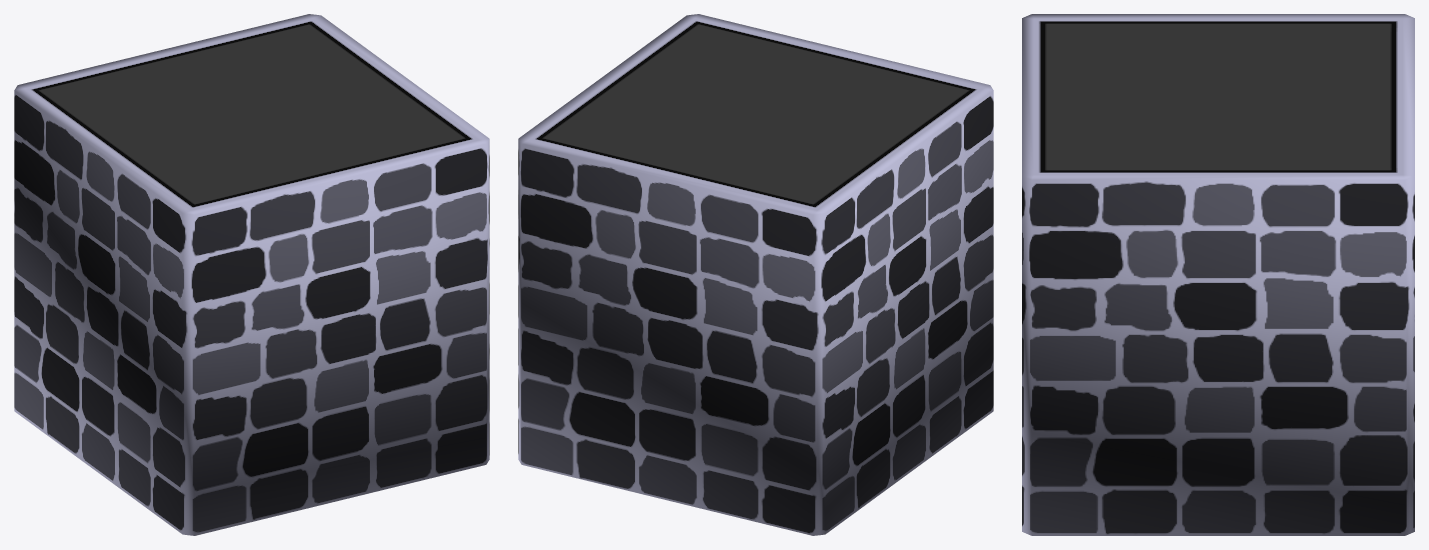
The model's file is damaged_block.obj.
3 renders of one model, left to right at view 1: azimuth 30°, elevation 25°; view 2: azimuth 150°, elevation 25°; view 3: azimuth 270°, elevation 25°, orthographic. The views are drawn at different scales.
Visible parts, largest first — view 1: Damaged_Block; view 2: Damaged_Block; view 3: Damaged_Block.
Boxes of the visible parts, x1,y1,x2,y2 form: Damaged_Block: (14,14,489,535); Damaged_Block: (518,14,993,535); Damaged_Block: (1022,14,1414,535).
Bounding box in the file's own units: 2 × 2 × 2.
1 material, 1 textured.
